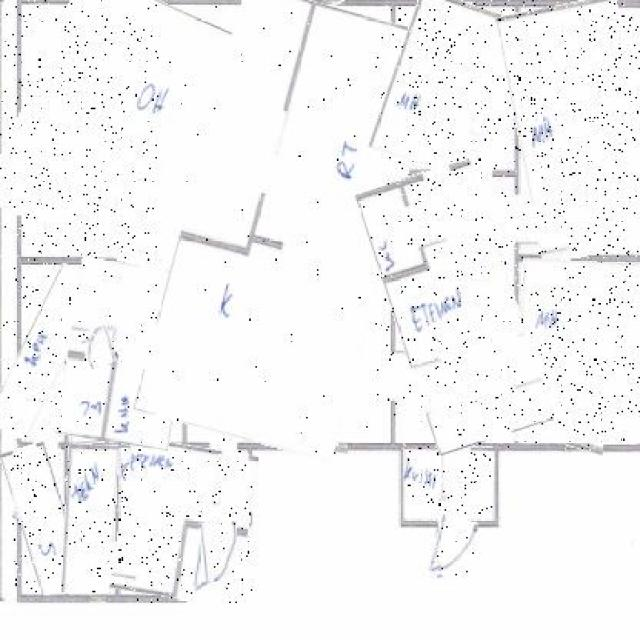door: (432, 517, 476, 578), (200, 523, 238, 582), (81, 326, 117, 369)
window: (86, 0, 145, 11), (565, 438, 603, 454), (306, 443, 348, 454), (304, 0, 344, 11), (435, 0, 474, 9), (577, 0, 615, 9), (14, 489, 23, 520), (16, 369, 22, 400), (88, 594, 106, 603)
zone: (158, 0, 417, 451), (0, 0, 274, 272), (375, 164, 534, 450), (506, 0, 640, 258), (380, 0, 524, 175), (63, 262, 189, 446), (515, 260, 640, 443), (115, 442, 254, 603), (2, 265, 83, 440), (11, 444, 75, 596), (65, 444, 117, 594), (403, 448, 495, 518), (389, 174, 443, 260), (68, 366, 115, 443)
